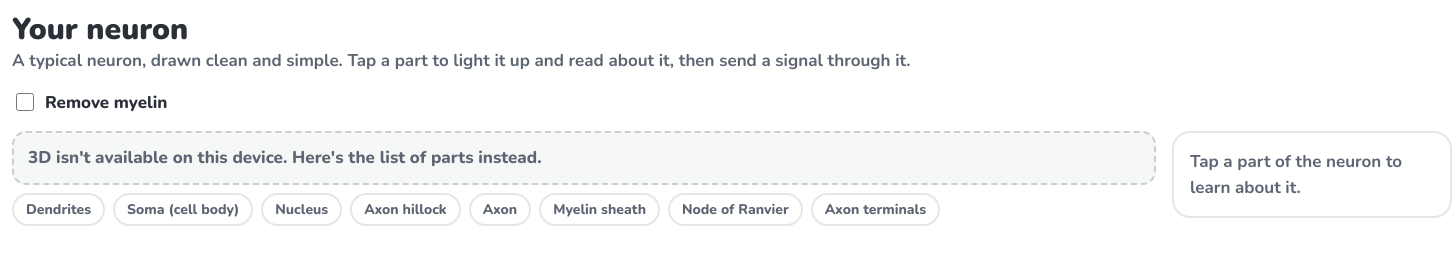
picking a part shows its note and its Wikipedia link
Click the button "Node of Ranvier": (735, 209) [668,192,803,226]
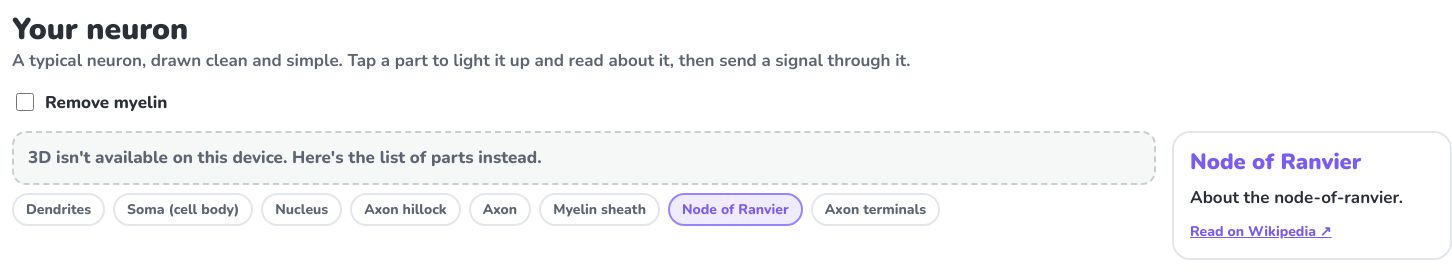
Now the heading "Node of Ranvier" is shown, box [1190,147,1361,177]
Now the text "About the node-of-ranvier." is shown, box [1190,185,1434,211]
